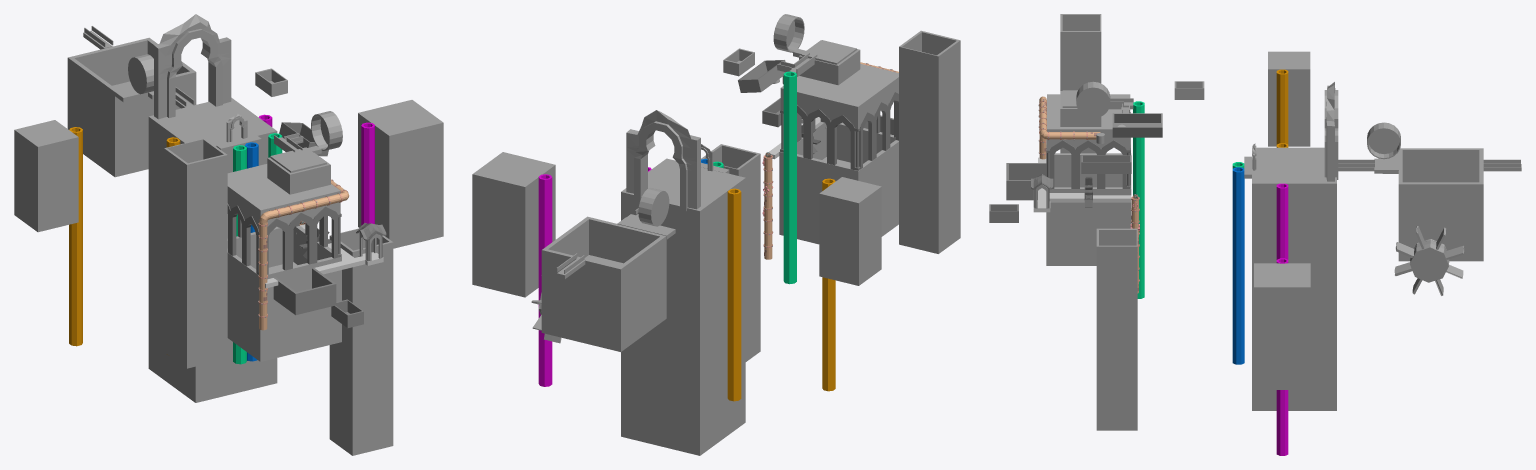
File: Level_4.fbx
The picture shows the model from 3 angles, left to right: view 1: azimuth 30°, elevation 25°; view 2: azimuth 150°, elevation 25°; view 3: azimuth 270°, elevation 25°; orthographic projection. The views are drawn at different scales.
Parts seen in each view (by area): view 1: pointLight5; view 2: pointLight5; view 3: pointLight5, polySurface71.
Boxes of the visible parts, left/top/right/bottom form: pointLight5: left=14, top=14, right=443, bottom=455; pointLight5: left=472, top=14, right=960, bottom=455; pointLight5: left=989, top=14, right=1521, bottom=455; polySurface71: left=1394, top=226, right=1464, bottom=295.
Size of the model in its own units: 551 by 465 by 707.
